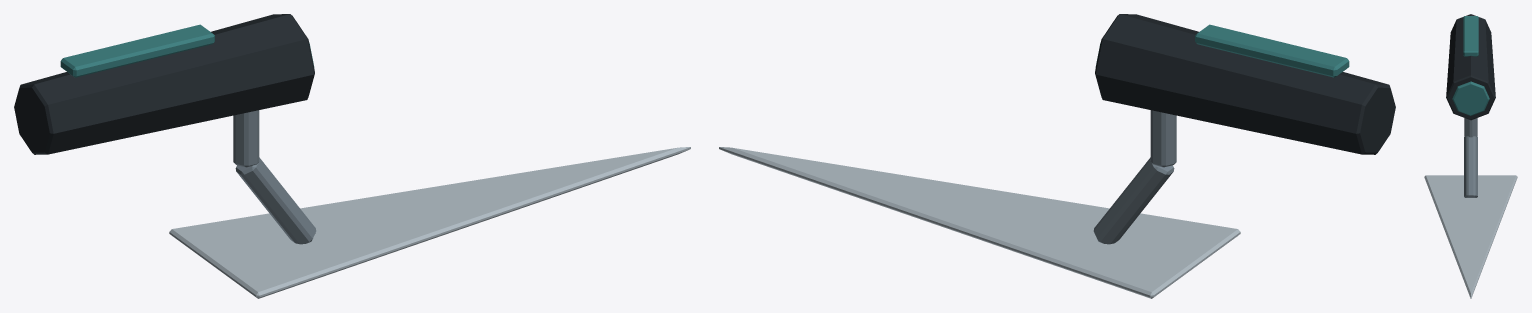
File: b06_pointing_trowel.glb
The picture shows the model from 3 angles, left to right: view 1: azimuth 30°, elevation 25°; view 2: azimuth 150°, elevation 25°; view 3: azimuth 270°, elevation 25°; orthographic projection. The views are drawn at different scales.
Parts seen in each view (by area): view 1: b06_pointing_trowel; view 2: b06_pointing_trowel; view 3: b06_pointing_trowel.
Part boxes in pixels (x1=…): b06_pointing_trowel: x1=14, y1=14, x2=690, y2=298; b06_pointing_trowel: x1=719, y1=14, x2=1395, y2=298; b06_pointing_trowel: x1=1424, y1=14, x2=1517, y2=298.
Bounding box in the file's own units: 0.2551 × 0.089 × 0.0597.
